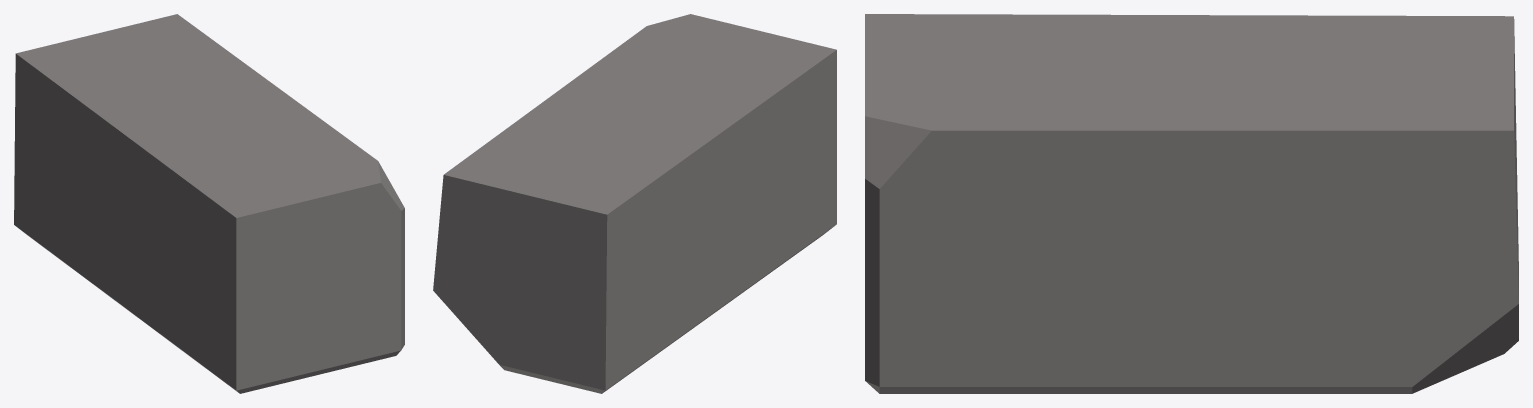
The model's file is stone-brick.glb.
The picture shows the model from 3 angles, left to right: view 1: azimuth 30°, elevation 25°; view 2: azimuth 150°, elevation 25°; view 3: azimuth 270°, elevation 25°; orthographic projection. The views are drawn at different scales.
Parts seen in each view (by area): view 1: stone-brick; view 2: stone-brick; view 3: stone-brick.
Part boxes in pixels (x1,y1,x2,y2): stone-brick: [14, 14, 404, 393]; stone-brick: [433, 14, 836, 393]; stone-brick: [865, 14, 1518, 393].
Bounding box in the file's own units: 0.6711 × 0.6714 × 1.51.
Materials: 1 (1 with a texture image).
